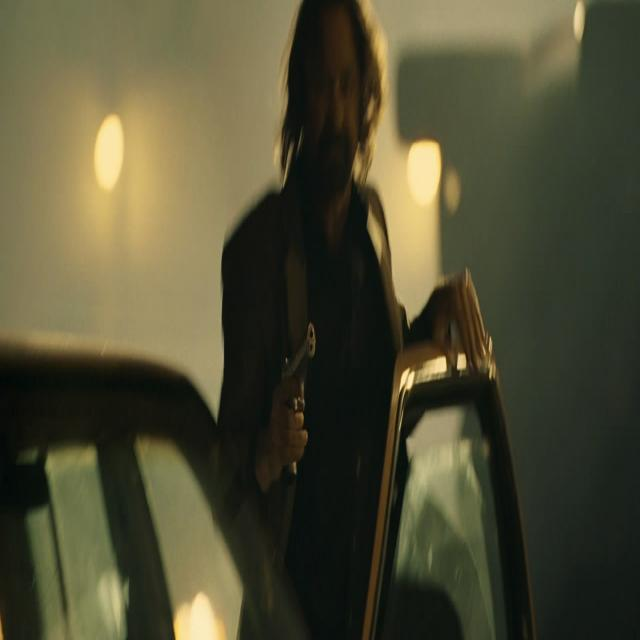gun-knife-thesis - v11 Yolov5 augmented: (278, 317, 316, 483)
